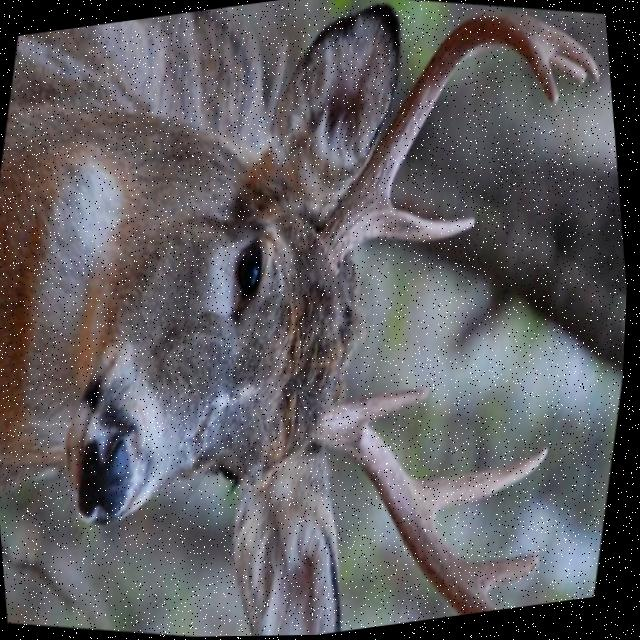L-F: (321, 14, 561, 275)
L-G1: (362, 197, 478, 243)
L-G2: (553, 27, 601, 85)
R-F: (315, 400, 505, 616)
R-G1: (349, 385, 435, 426)
R-G2: (412, 444, 554, 520)
R-G3: (463, 552, 547, 593)
